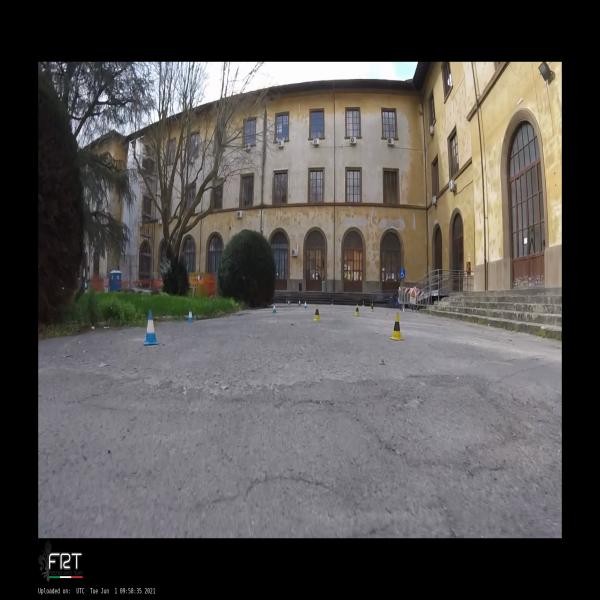blue_cone: (142, 309, 160, 346), (187, 308, 195, 323), (272, 303, 278, 313), (304, 300, 307, 308), (298, 299, 301, 306), (287, 300, 290, 306)
yellow_cone: (389, 312, 404, 341), (313, 304, 322, 321), (353, 304, 360, 317), (370, 303, 374, 312), (362, 301, 365, 307), (331, 300, 333, 305)
